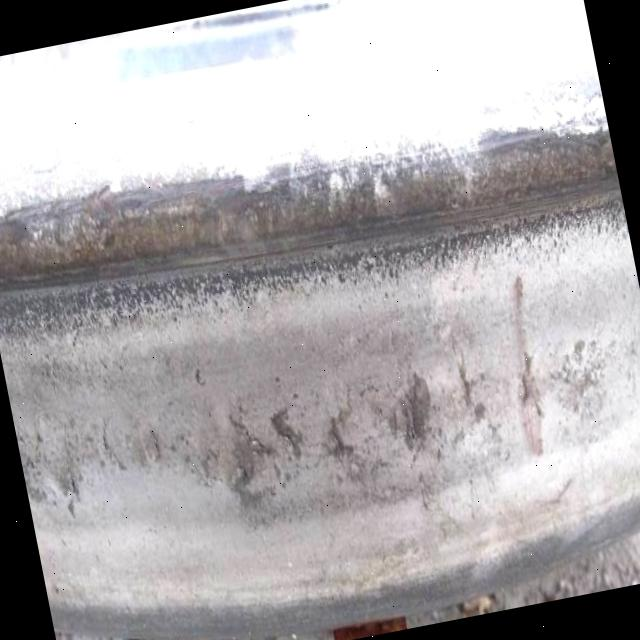Contact_Fatigue_Cracks: (317, 367, 446, 497), (18, 403, 169, 506), (492, 273, 559, 468), (222, 403, 316, 510), (546, 332, 618, 439), (452, 349, 509, 455)
